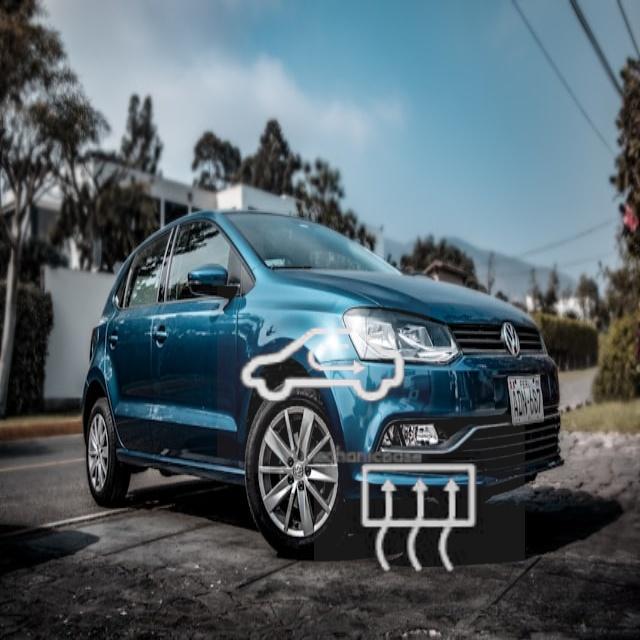symbol: (217, 260, 430, 473), (314, 415, 525, 626)
